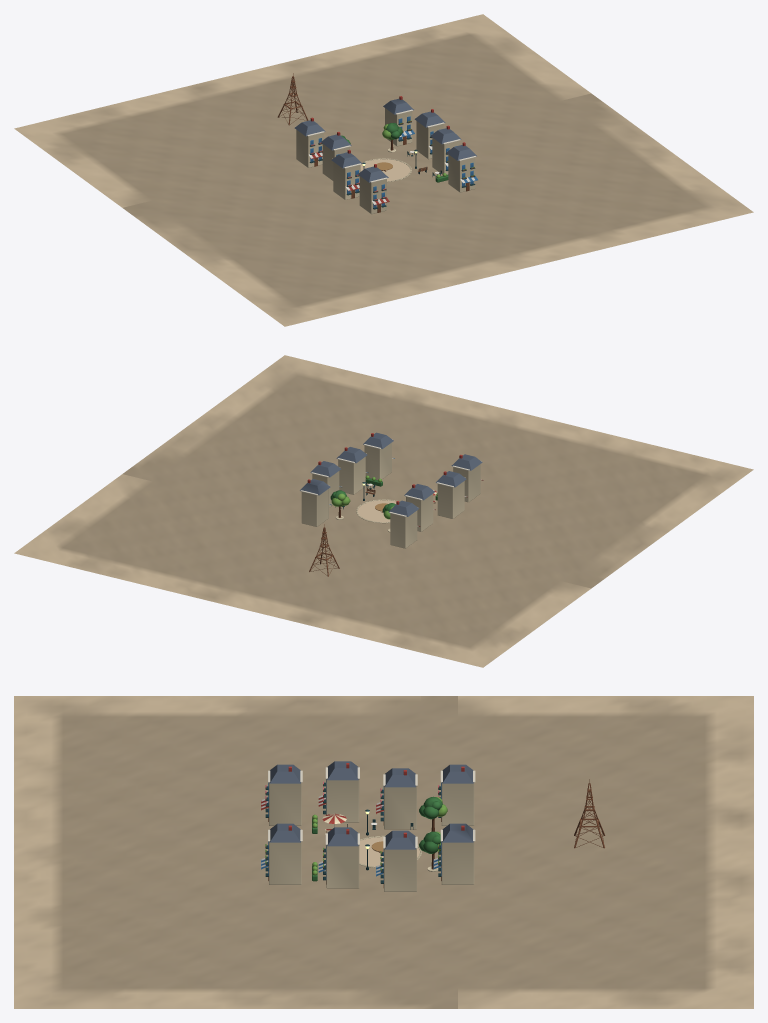
The model's file is paris.glb.
3 views of the same model, one above another, from view 1: azimuth 30°, elevation 25°; view 2: azimuth 150°, elevation 25°; view 3: azimuth 270°, elevation 25° (orthographic). The views are drawn at different scales.
Visible parts, largest first — view 1: paris; view 2: paris; view 3: paris.
Boxes of the visible parts, <box> form: paris: <box>14,14,753,326</box>; paris: <box>14,355,753,667</box>; paris: <box>14,696,753,1008</box>.
Size of the model in its own units: 90 by 8.51 by 90.
